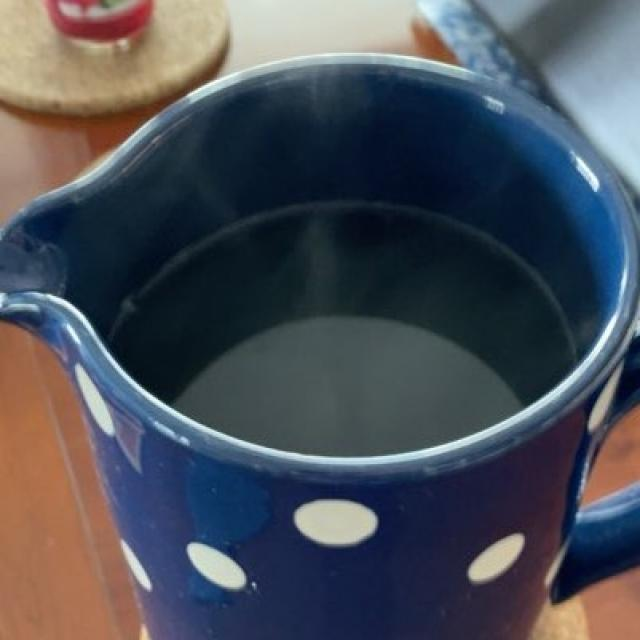tea: (124, 222, 569, 484)
